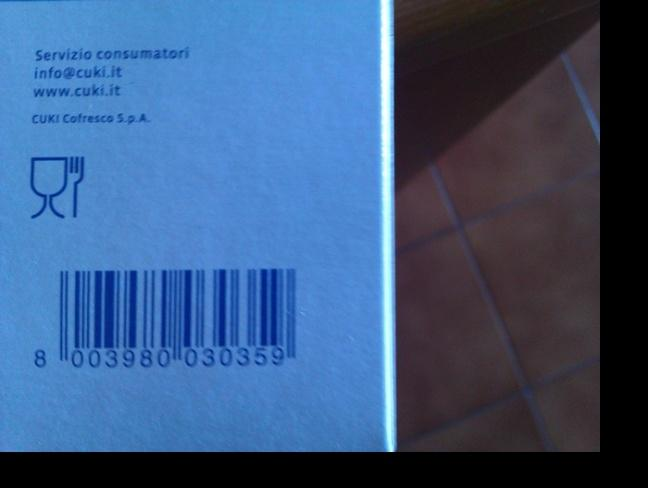Barcode: (26, 257, 317, 379)
